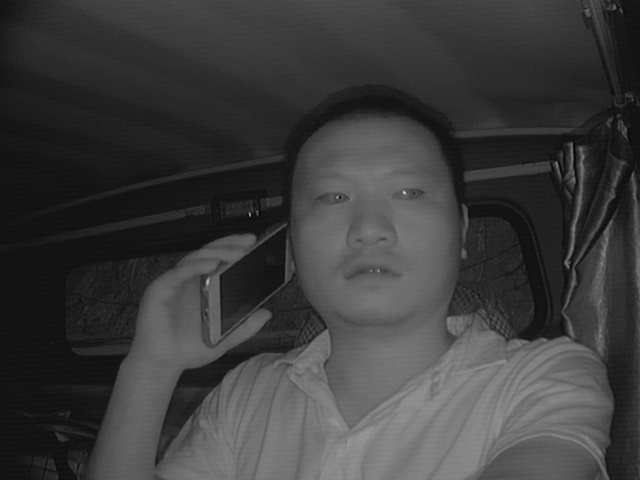hand: (148, 229, 261, 362)
